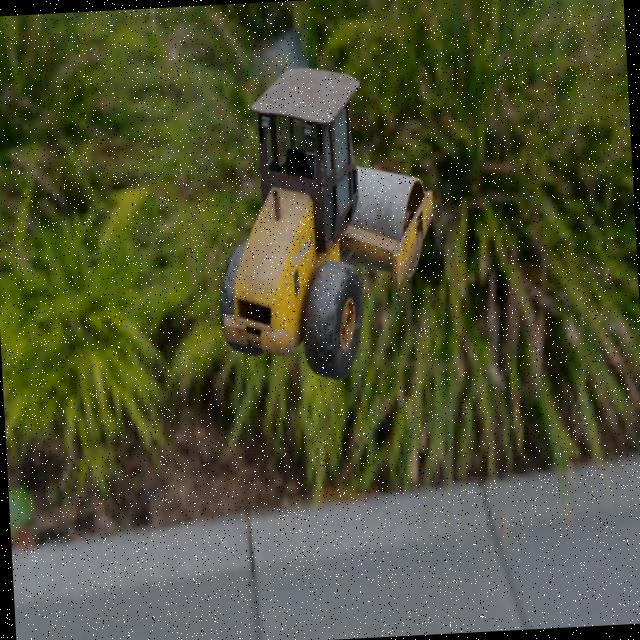Roller: (207, 60, 442, 386)
